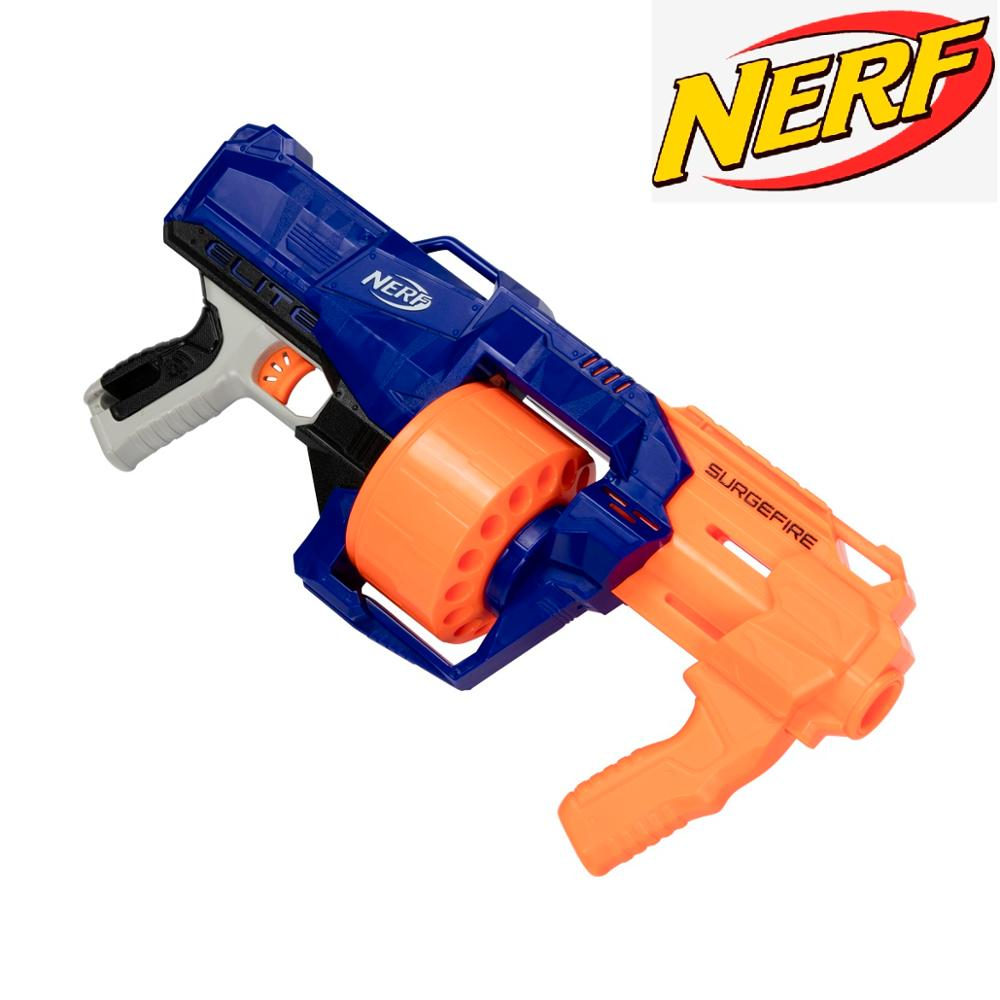Arma Falsa: (79, 116, 921, 871)
